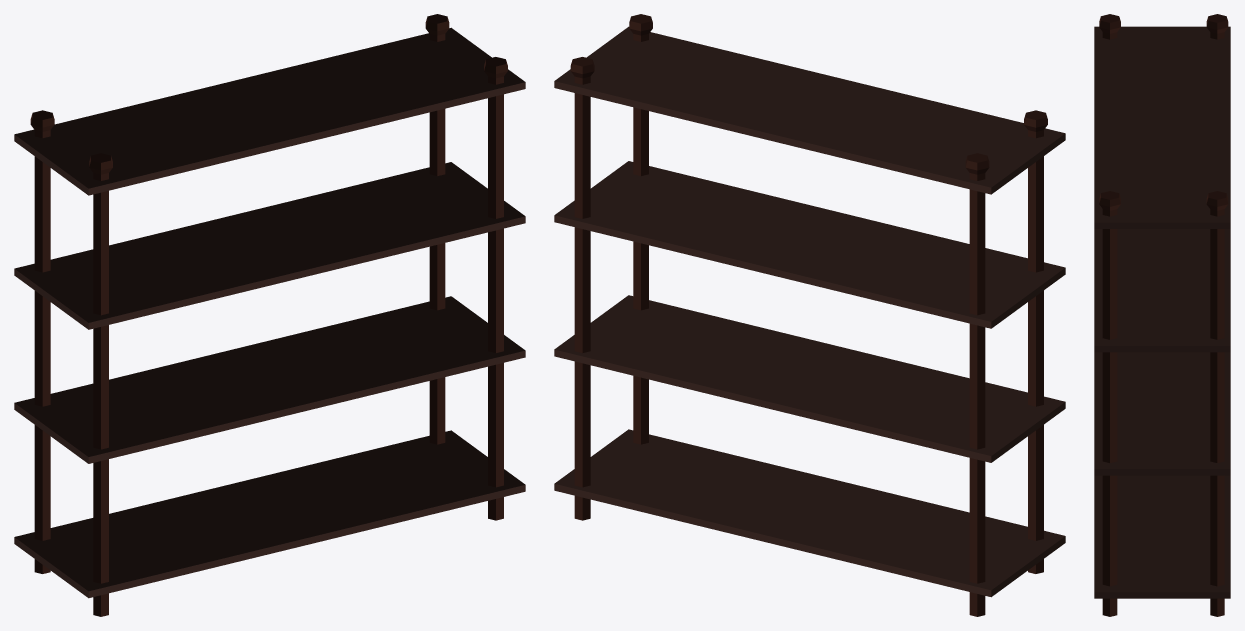
File: Shelf 11.fbx
3 views of the same model, side by side, from view 1: azimuth 30°, elevation 25°; view 2: azimuth 150°, elevation 25°; view 3: azimuth 270°, elevation 25° (orthographic). The views are drawn at different scales.
Parts seen in each view (by area): view 1: Shelf; view 2: Shelf; view 3: Shelf.
Boxes of the visible parts, x1=… form: Shelf: x1=14, y1=14, x2=525, y2=616; Shelf: x1=554, y1=14, x2=1065, y2=616; Shelf: x1=1094, y1=14, x2=1230, y2=616.
Bounding box in the file's own units: 0.1966 × 0.6643 × 0.6675.
